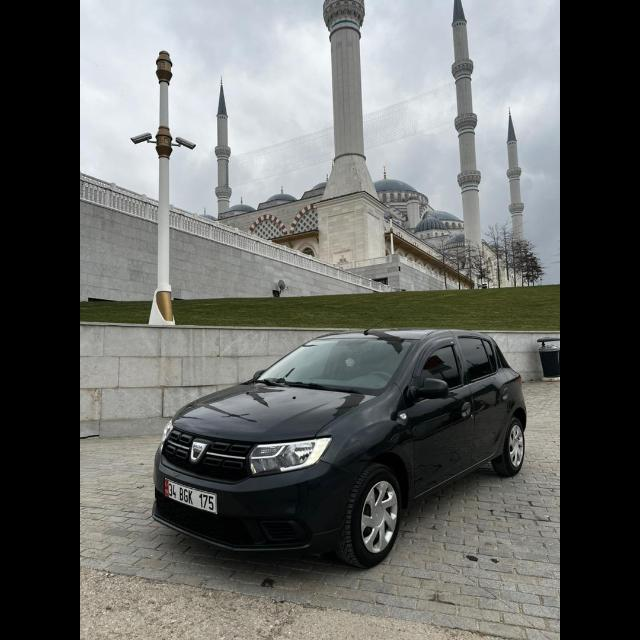Plaka: (165, 480, 217, 514)
